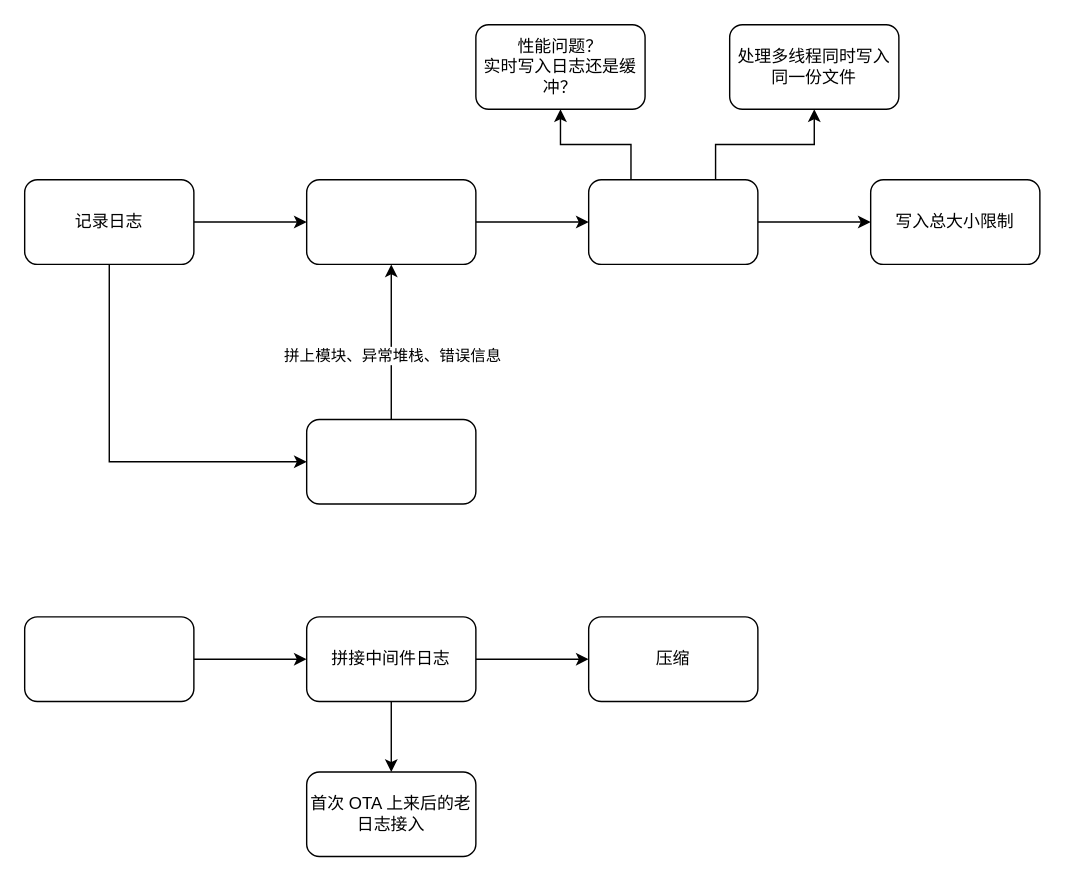
Some shapes in this 1065 by 881 pixel diagram are drawn without their labels. Here are the shapes that lost their labels. From the top down, the centre of each, then its label:
point 390,221: 内容拼上时间、TAG
point 672,221: 写入文件
point 390,461: crash 捕获
point 108,658: 反馈日志
